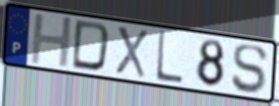8: (193, 38, 226, 90)
D: (69, 18, 113, 74)
H: (29, 13, 75, 69)
L: (154, 29, 185, 87)
S: (230, 44, 270, 96)
X: (114, 24, 149, 80)
